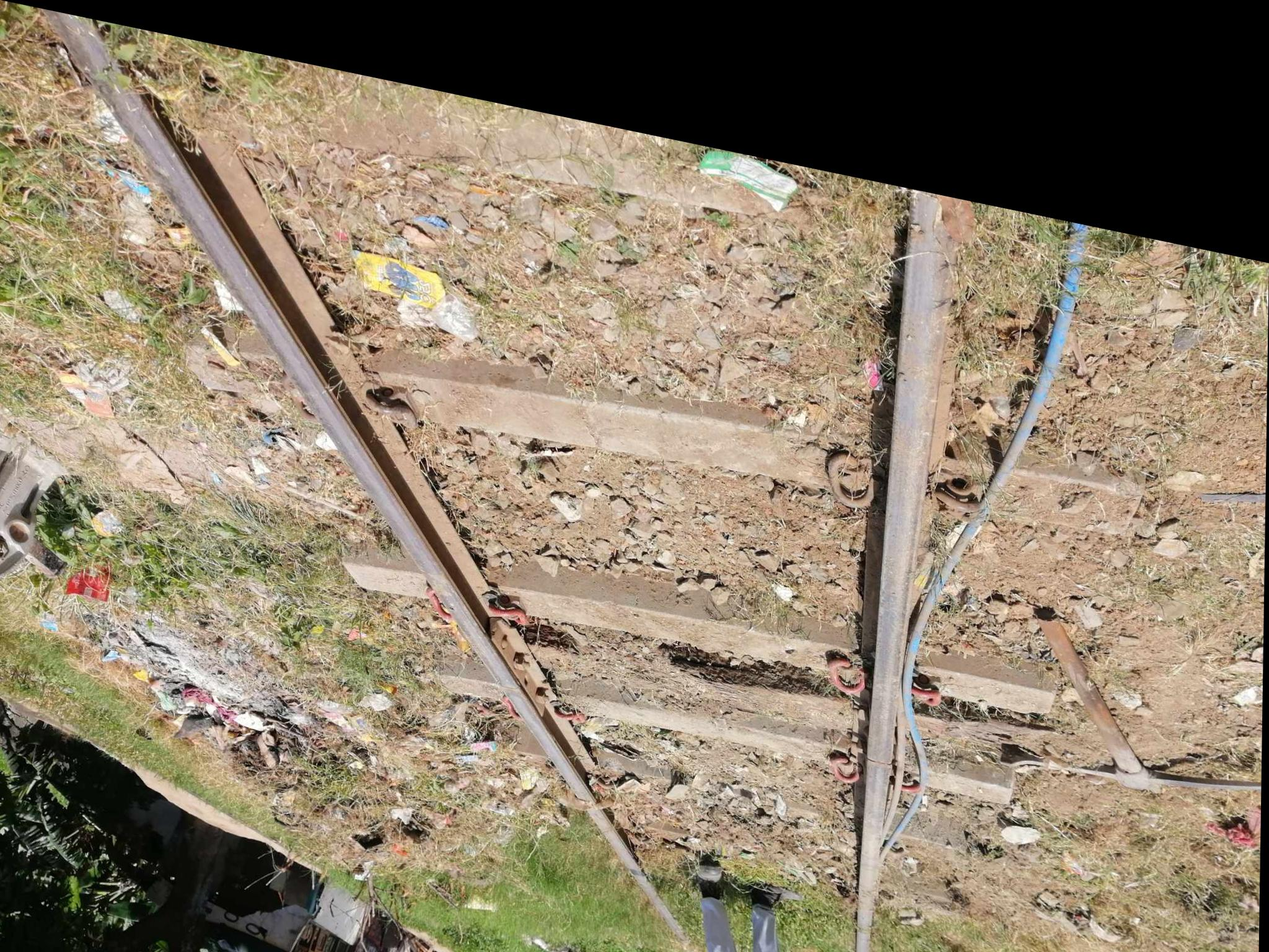person: (833, 683, 931, 765)
